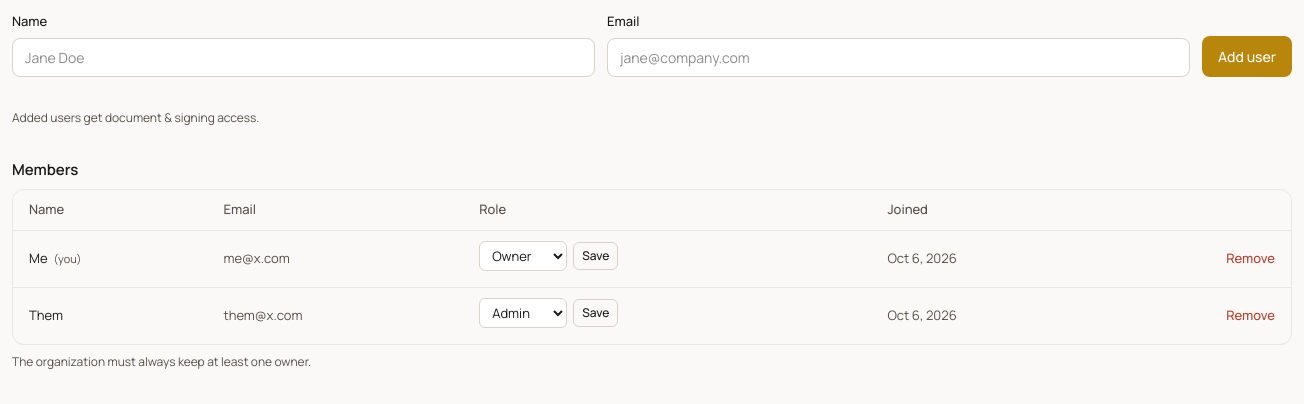
role control › returns to the stored role and shows why when the change is refused
Select "Admin" in the dropdown named "Role for Them" at (523, 312), box [479,298,567,328]
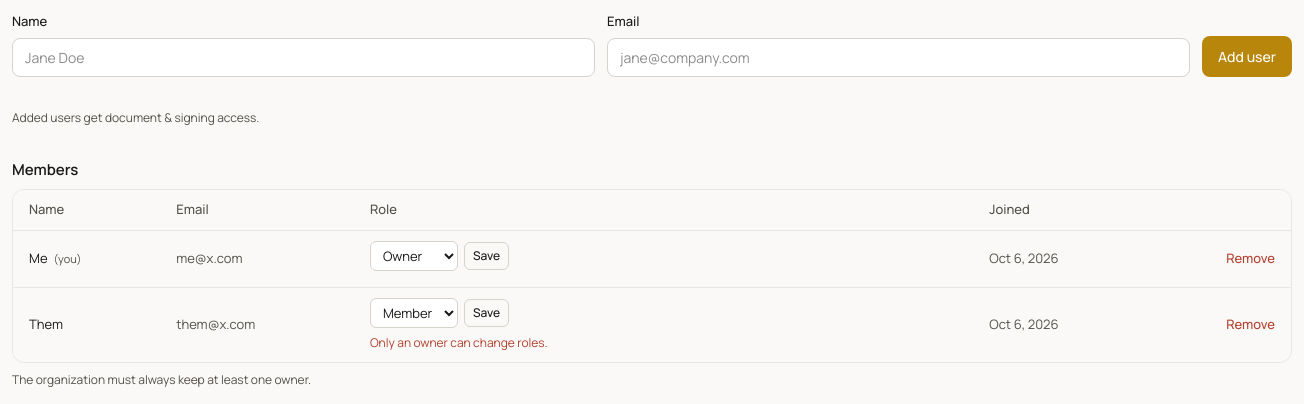
Now the text "Only an owner can change roles." is shown, box [370,334,548,350]
